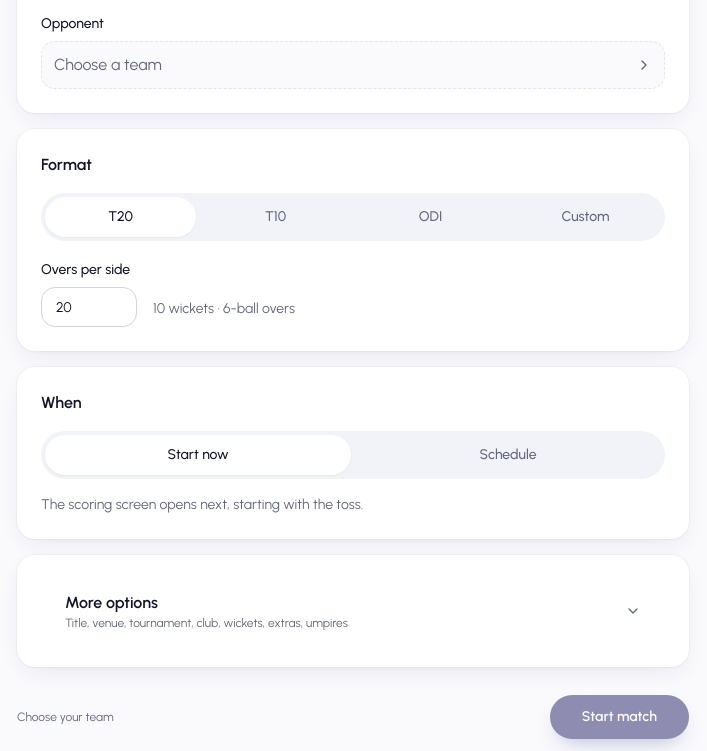
Test: New match form › keeps optional details behind More options
The width and height of the screenshot is (707, 751).
(page scrolled)
Step 1. Click the button "More options" → click(111, 602), box x1=41 y1=579 x2=665 y2=643
(page scrolled)
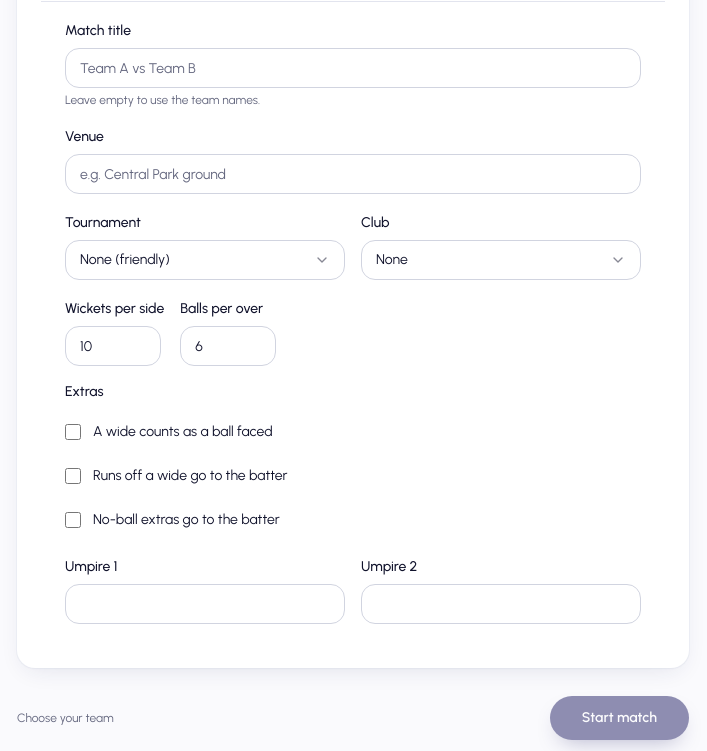
Now the field labelled "Venue" is shown, box x1=65 y1=154 x2=641 y2=194
Now the number field labelled "Balls per over" holds "6", box x1=180 y1=326 x2=276 y2=366
